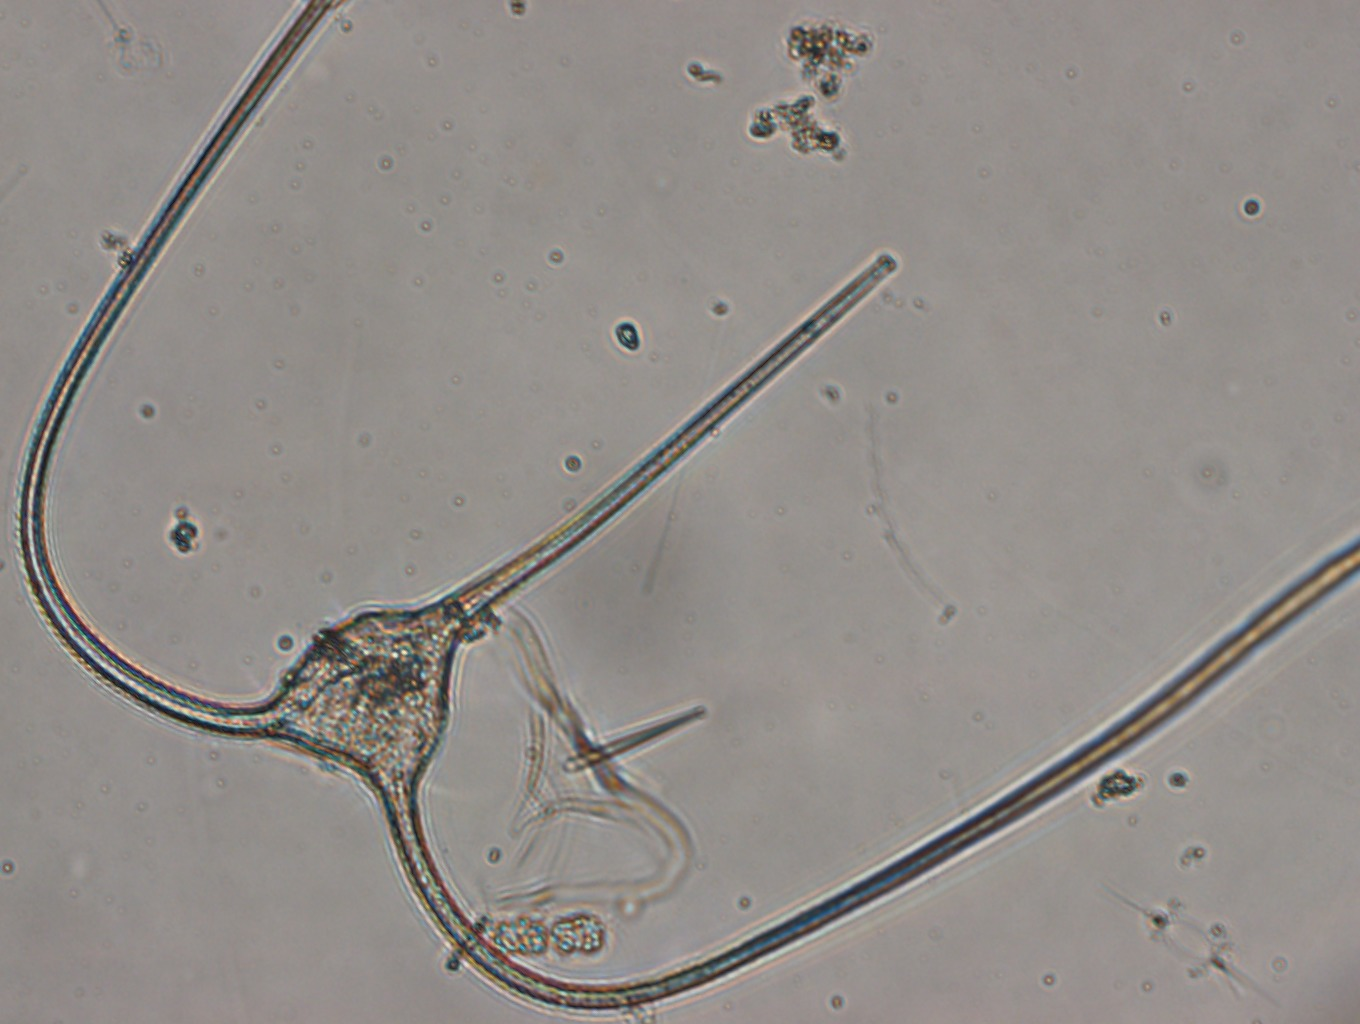ceratium trichoceros: (17, 1, 1360, 1011)
